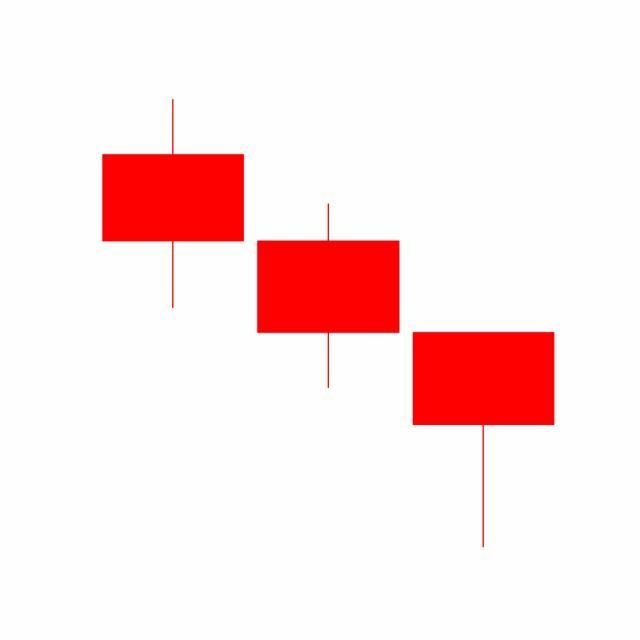Hammer: (406, 331, 562, 551)
